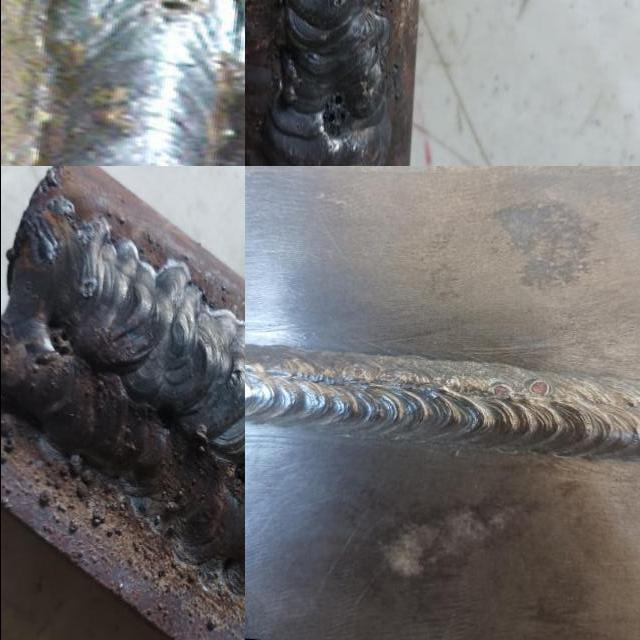defect: (317, 85, 354, 146), (42, 308, 78, 365), (145, 0, 205, 16), (154, 399, 177, 429), (526, 377, 557, 397), (380, 368, 407, 388), (346, 366, 370, 386), (487, 384, 515, 401), (82, 274, 97, 297), (326, 0, 344, 13), (625, 397, 640, 409)
